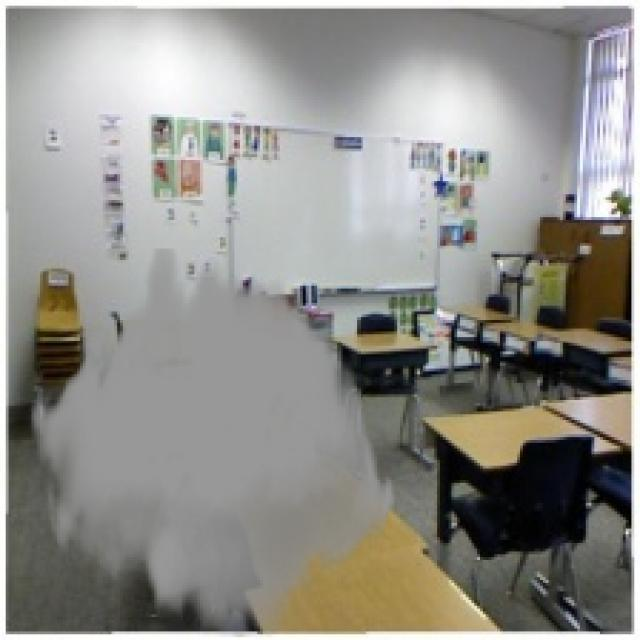Smoke: (29, 248, 398, 638)
